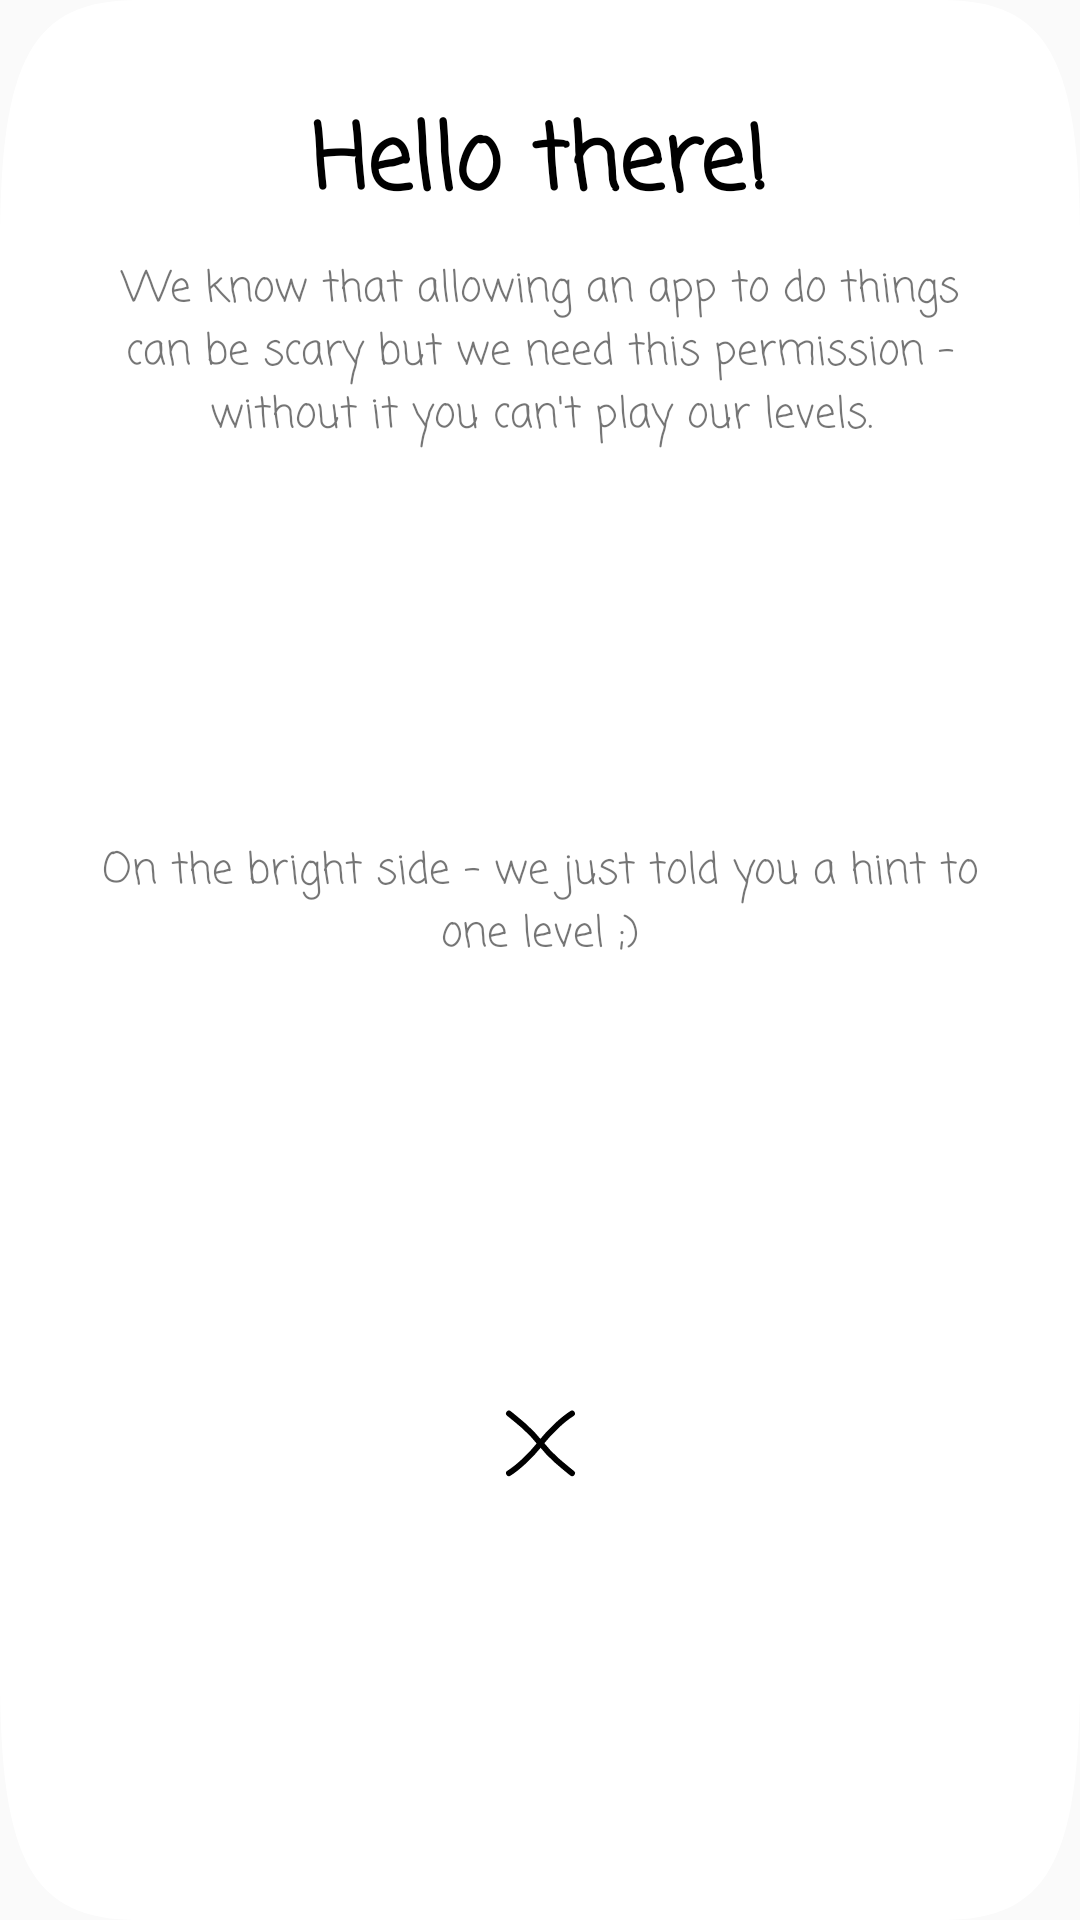

Icons on this 1080 × 1920 Android screen, each with its box as BBox(x1, y1, x2, y2):
close: BBox(506, 1410, 575, 1477)
